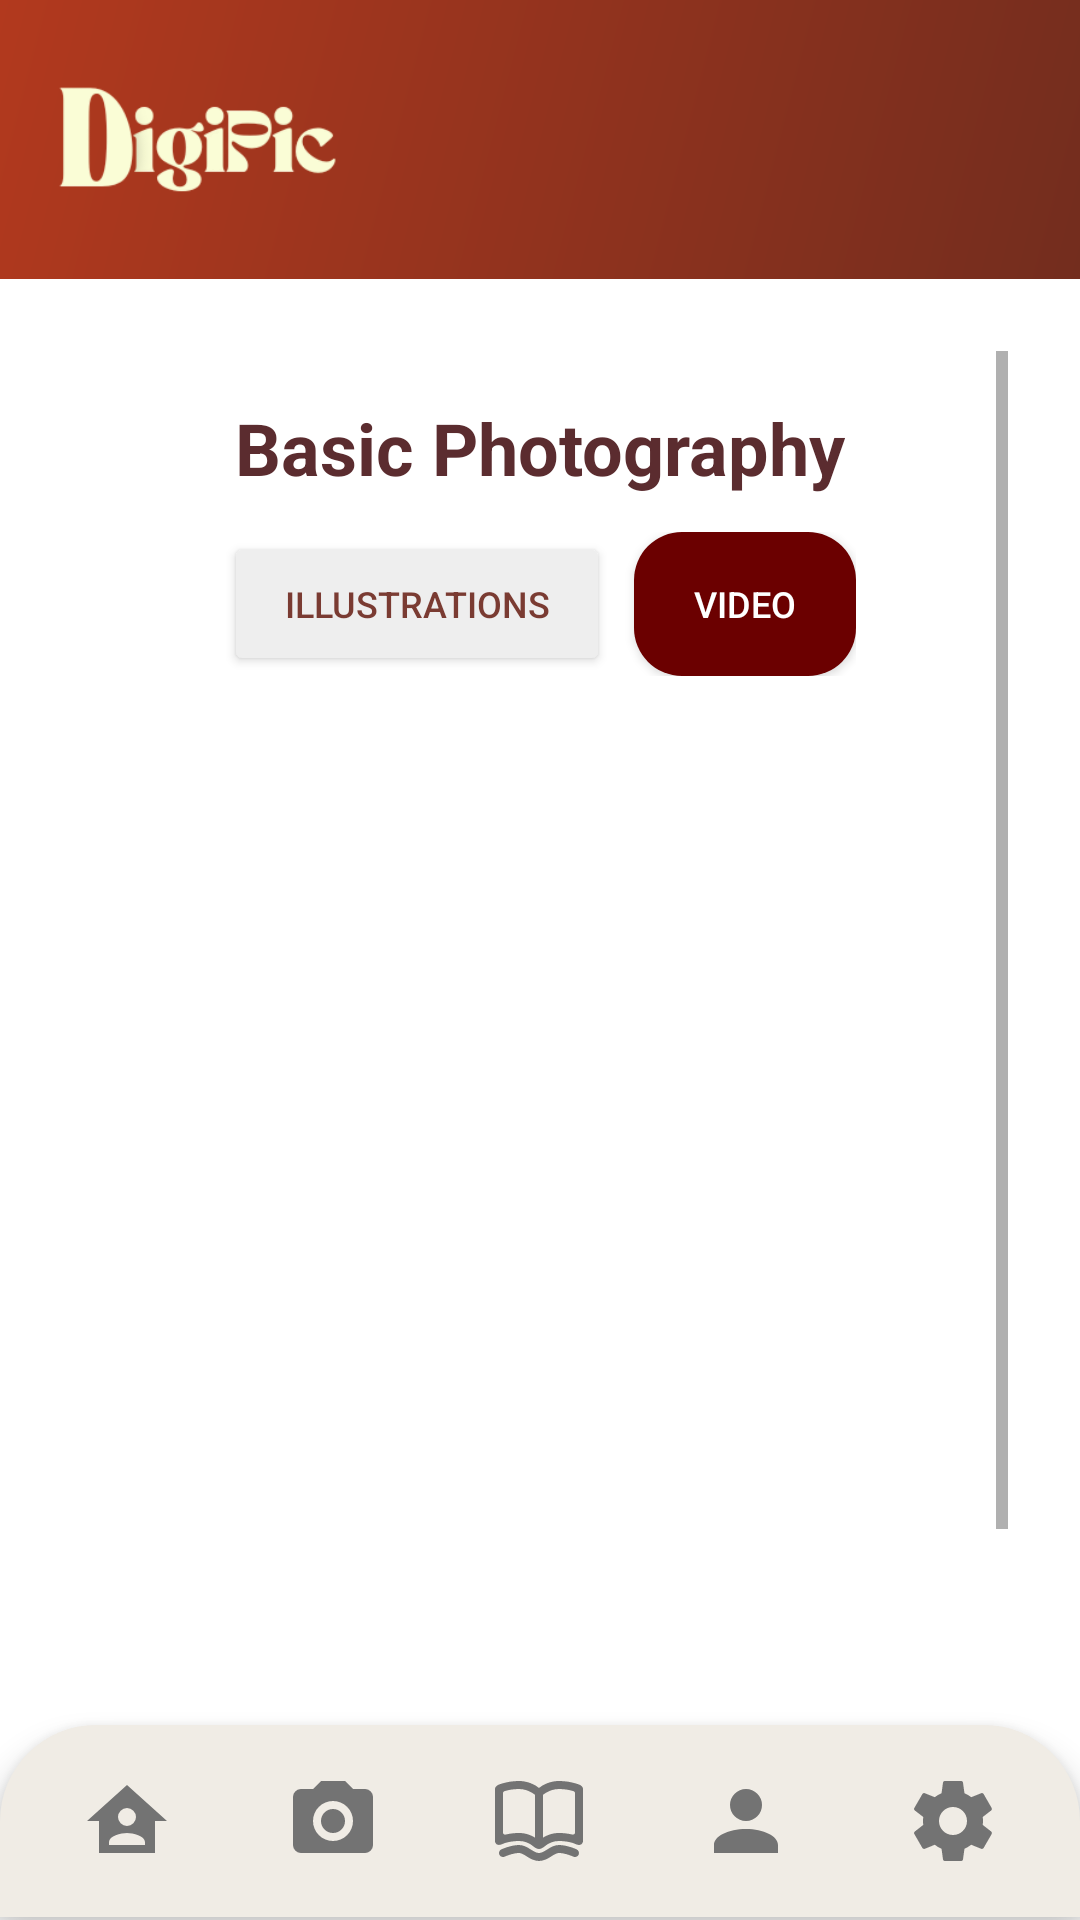

Icon click points for this 1080*1920 phone screenshot, format [x,y]:
Home: [127,1819]
Profile: [746,1821]
Settings: [953,1821]
